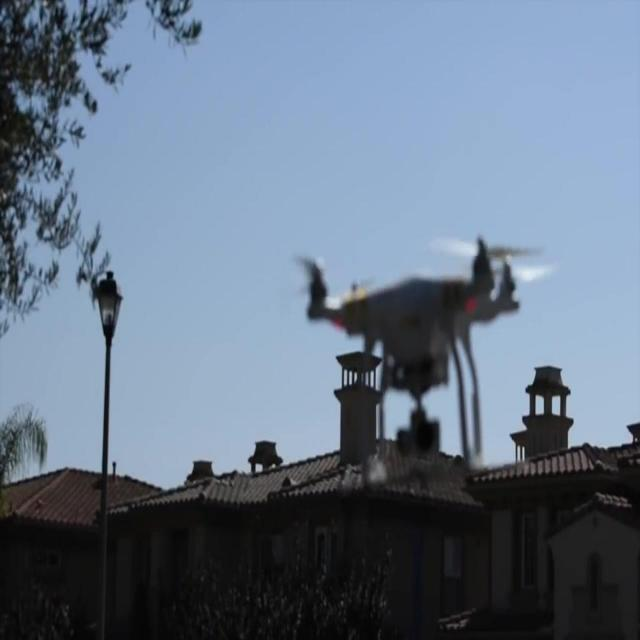UAV: (292, 236, 557, 467)
